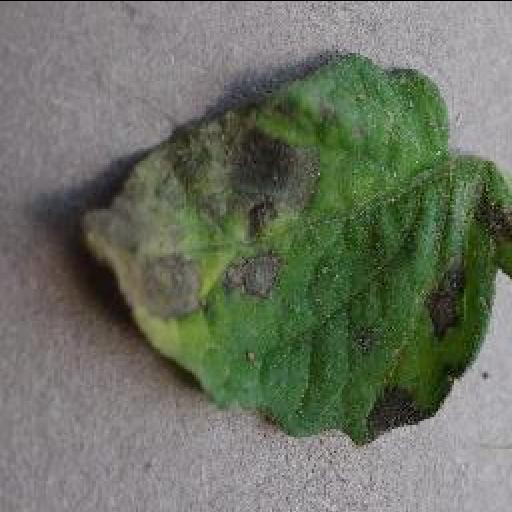disease_tomato: (80, 54, 512, 446)
